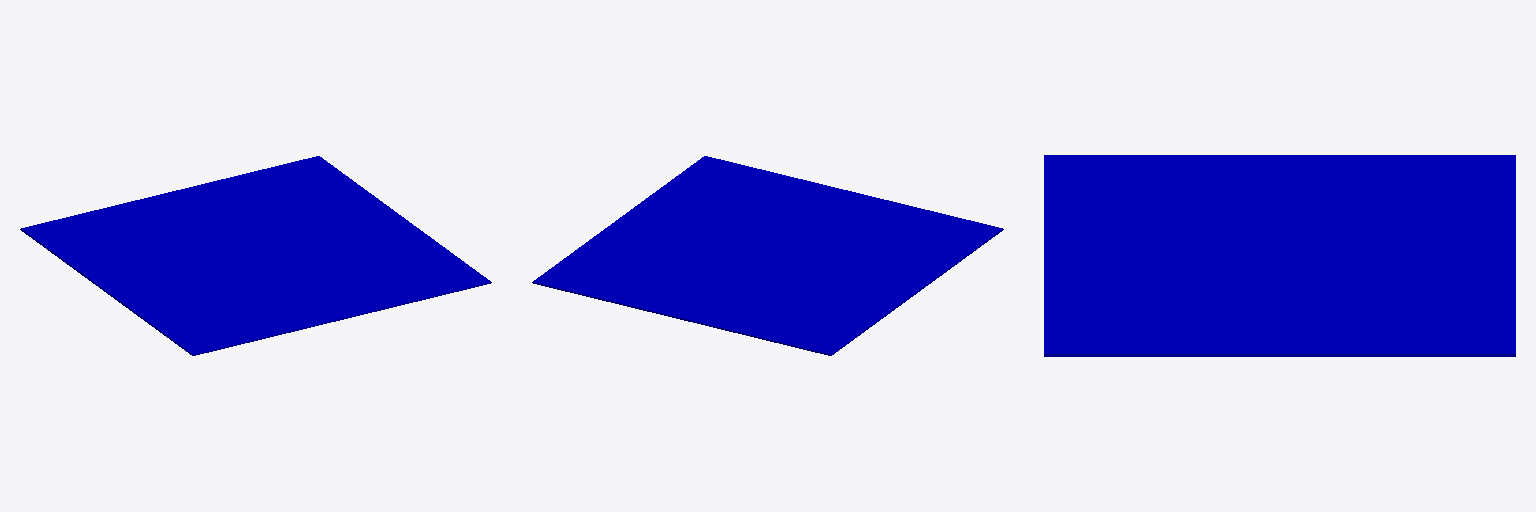
robot.urdf — ramp:
<?xml version="1.0"?>
<robot name="ramp">
    <!-- Colors-->
    <material name="blue">
        <color rgba="0 0 0.8 1"/>
    </material>

    <!-- Ramp-->
    <link name="base_link">
        <visual> 
            <geometry> 
                <box size="2 2 0.01"/>
                <origin rpy="0 1 0" xyz="-1 -1 -0.005"/>
            </geometry>
            <material name="blue"/>
        </visual>
        <collision> 
             <geometry> 
                <box size="2 2 0.01"/>
                <origin rpy="0 1 0" xyz="-1 -1 -0.005"/>
            </geometry>
        </collision> 
        <inertial> 
            <mass value="0"/>
            <inertia ixx="0" ixy="0" ixz="0" iyy="0" iyz="0" izz="0"/>
        </inertial> 
        <contact> 
            <lateral_friction value="1"/>
        </contact>
    </link>
</robot>

--- What the picture shows (computed from the rendered views, not written in the file) ---
3 views of the same robot in one strip: view 1: azimuth 30°, elevation 25°; view 2: azimuth 150°, elevation 25°; view 3: azimuth 270°, elevation 25° (orthographic).
Robot: ramp — 1 links, 0 joints (none); root link base_link; default pose: all joints at 0.
Links seen in each view (by area): view 1: base_link; view 2: base_link; view 3: base_link.
Boxes of the visible links, x1,y1,x2,y2 form: base_link: (20, 156, 491, 355); base_link: (532, 156, 1003, 355); base_link: (1044, 155, 1515, 356).
Bounding box of the posed robot: 2 × 2 × 0.01 m (x, y, z).
Geometry: primitives only (box / cylinder / sphere), no mesh files.